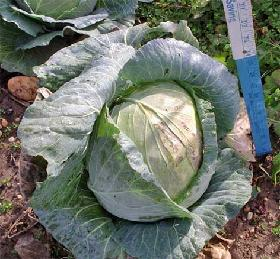cabbage: (16, 19, 252, 256)
